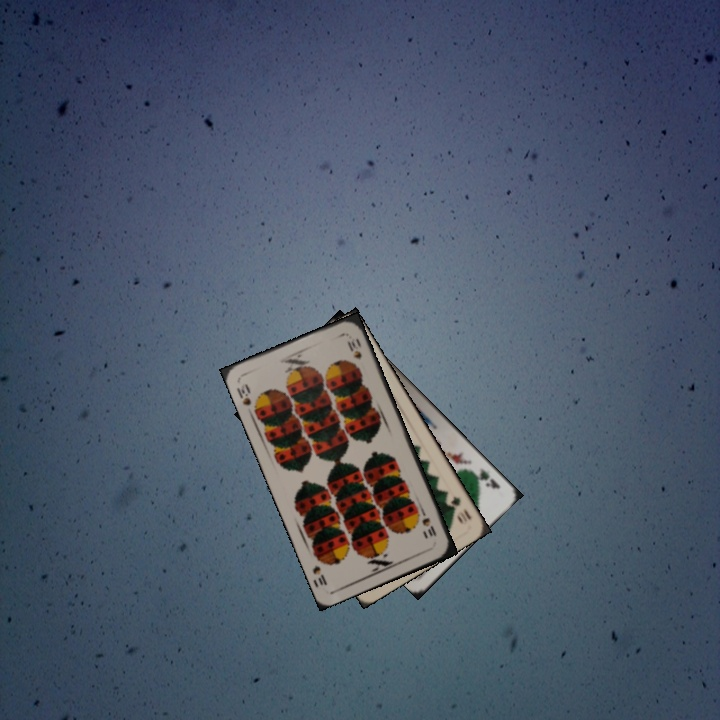G10: (446, 492, 474, 526)
GK: (467, 464, 503, 492)
S10: (417, 506, 439, 539), (232, 379, 254, 408)
